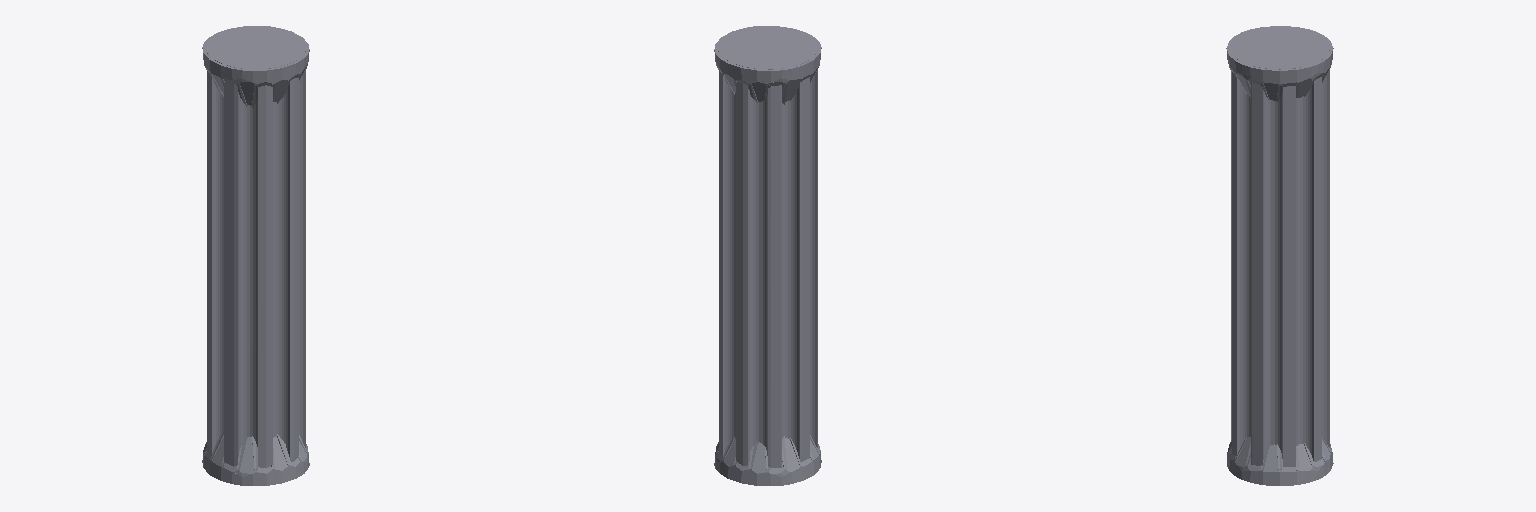
Rendered from Pillar.obj.
The picture shows the model from 3 angles: view 1: azimuth 30°, elevation 25°; view 2: azimuth 150°, elevation 25°; view 3: azimuth 270°, elevation 25°; orthographic projection.
Visible parts, largest first — view 1: DecorPillar1; view 2: DecorPillar1; view 3: DecorPillar1.
Boxes of the visible parts, x1,y1,x2,y2 form: DecorPillar1: [202, 26, 309, 485]; DecorPillar1: [714, 26, 821, 485]; DecorPillar1: [1226, 26, 1333, 485].
Bounding box in the file's own units: 4.99 × 21.38 × 4.99.